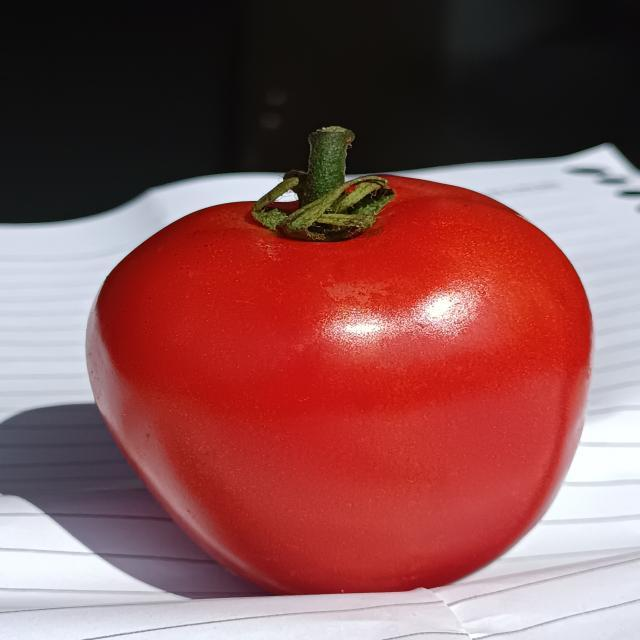Masak: (76, 146, 603, 594)
